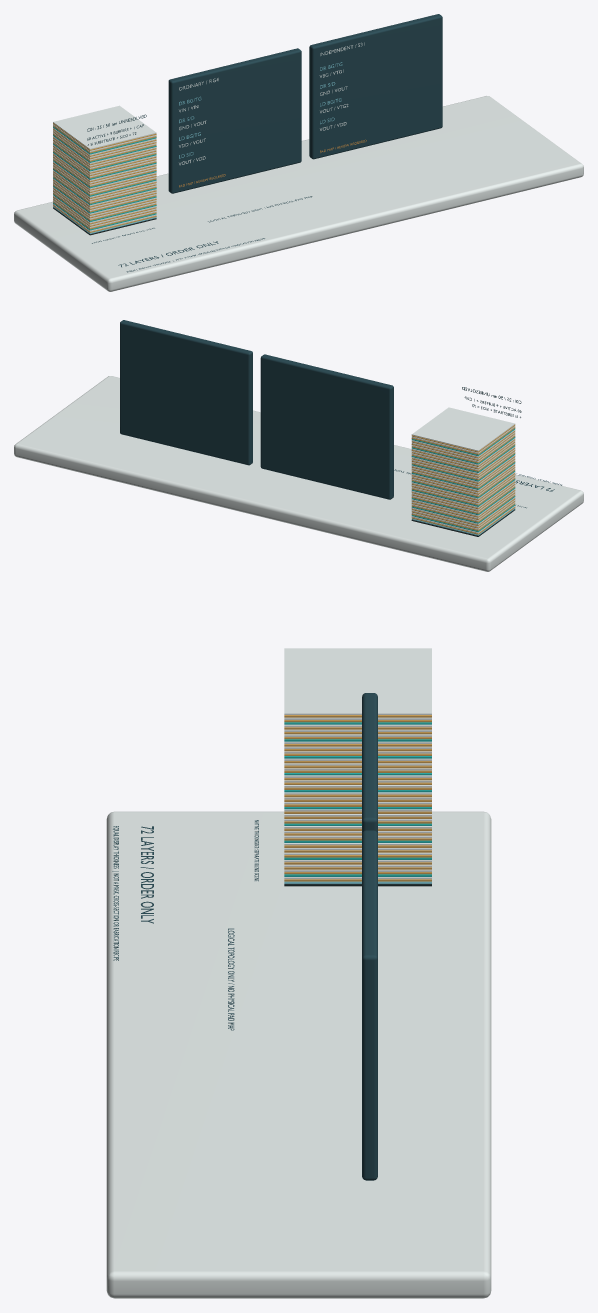
Rendered from transistor_layer_ledger_display.glb.
The picture shows the model from 3 angles, top to bottom: view 1: azimuth 30°, elevation 25°; view 2: azimuth 150°, elevation 25°; view 3: azimuth 270°, elevation 25°; orthographic projection. The views are drawn at different scales.
Parts seen in each view (by area): view 1: display.base, display.netlist_card.1, display.netlist_card.0, display.layer.72.final_cap; view 2: display.base, display.netlist_card.0, display.netlist_card.1, display.layer.72.final_cap; view 3: display.base, display.layer.72.final_cap, display.netlist_card.1, display.netlist_card.0.
Boxes of the visible parts, x1=… form: display.base: x1=14, y1=96, x2=583, y2=291; display.netlist_card.1: x1=309, y1=14, x2=442, y2=159; display.netlist_card.0: x1=168, y1=48, x2=301, y2=193; display.layer.72.final_cap: x1=53, y1=105, x2=156, y2=149; display.base: x1=14, y1=376, x2=583, y2=571; display.netlist_card.0: x1=260, y1=354, x2=393, y2=499; display.netlist_card.1: x1=120, y1=320, x2=252, y2=465; display.layer.72.final_cap: x1=411, y1=407, x2=515, y2=451; display.base: x1=106, y1=811, x2=491, y2=1298; display.layer.72.final_cap: x1=284, y1=648, x2=431, y2=714; display.netlist_card.1: x1=362, y1=830, x2=377, y2=1180; display.netlist_card.0: x1=362, y1=693, x2=377, y2=833.
Size of the model in its own units: 1.86 by 0.5 by 0.65.
